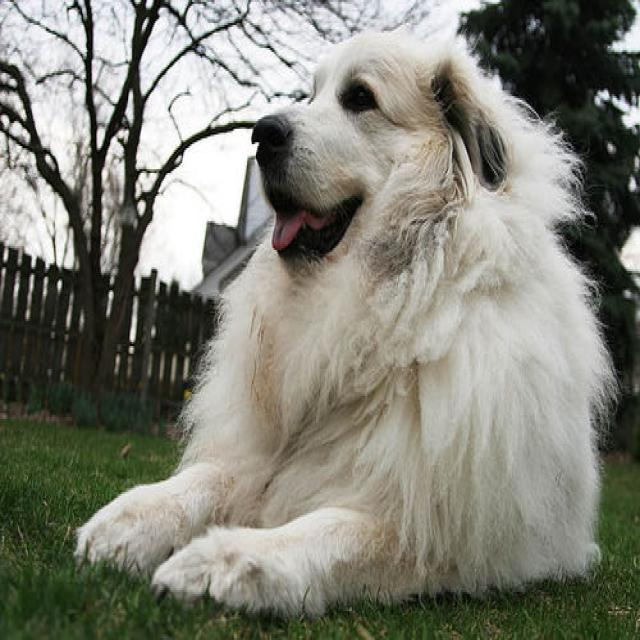dog-great_pyrenees: (61, 13, 612, 615)
